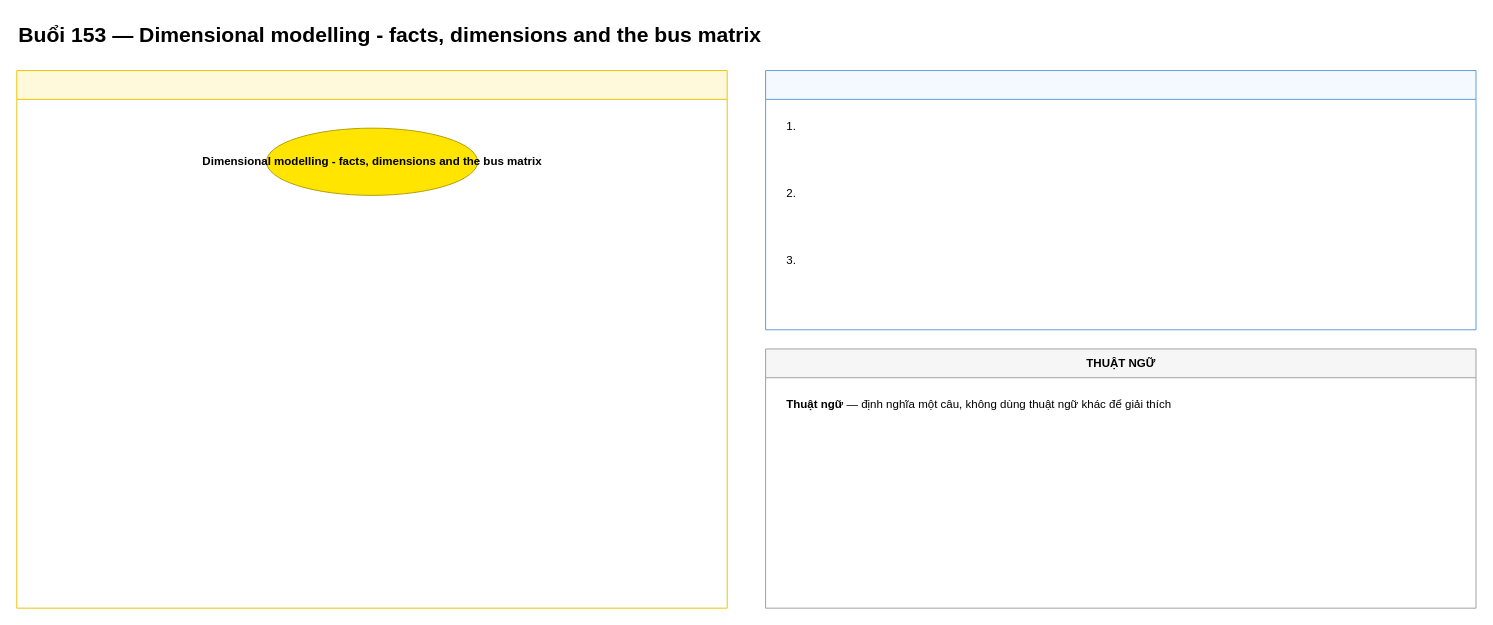
The diagram is 1493 pixels wide and 625 high, and some of its shapes have lost their labels. Here are the shapes that lost their labels. From the top down, the box of each, then its label:
(765, 70, 1476, 330): KEY TAKEAWAY — ba điều phải nhớ
(16, 70, 727, 608): MINDMAP
